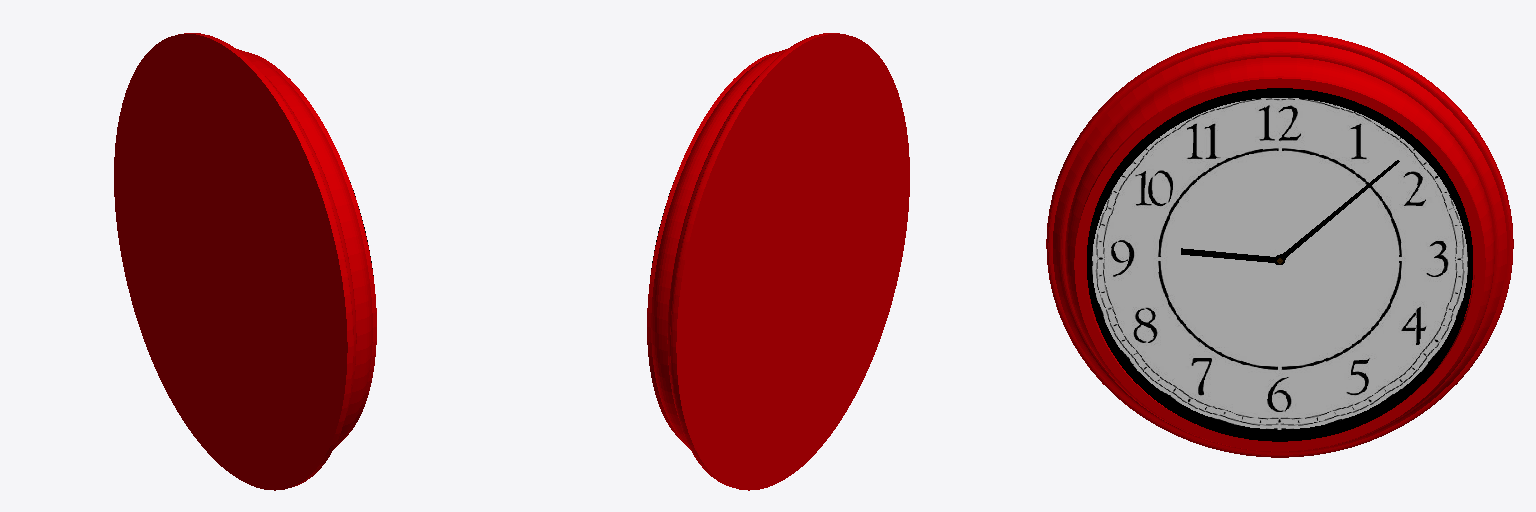
3 renders of one model, left to right at view 1: azimuth 30°, elevation 25°; view 2: azimuth 150°, elevation 25°; view 3: azimuth 270°, elevation 25°, orthographic.
Visible parts, largest first — view 1: Clock; view 2: Clock; view 3: Clock, MinHand, HrHand.
Part boxes in pixels (bbox=[...]): Clock: bbox=[114, 33, 376, 490]; Clock: bbox=[647, 33, 909, 490]; Clock: bbox=[1046, 32, 1513, 457]; MinHand: bbox=[1277, 160, 1399, 259]; HrHand: bbox=[1181, 248, 1284, 264].
Size of the model in its own units: 1.59 by 12.77 by 12.77.
5 materials, 1 textured.